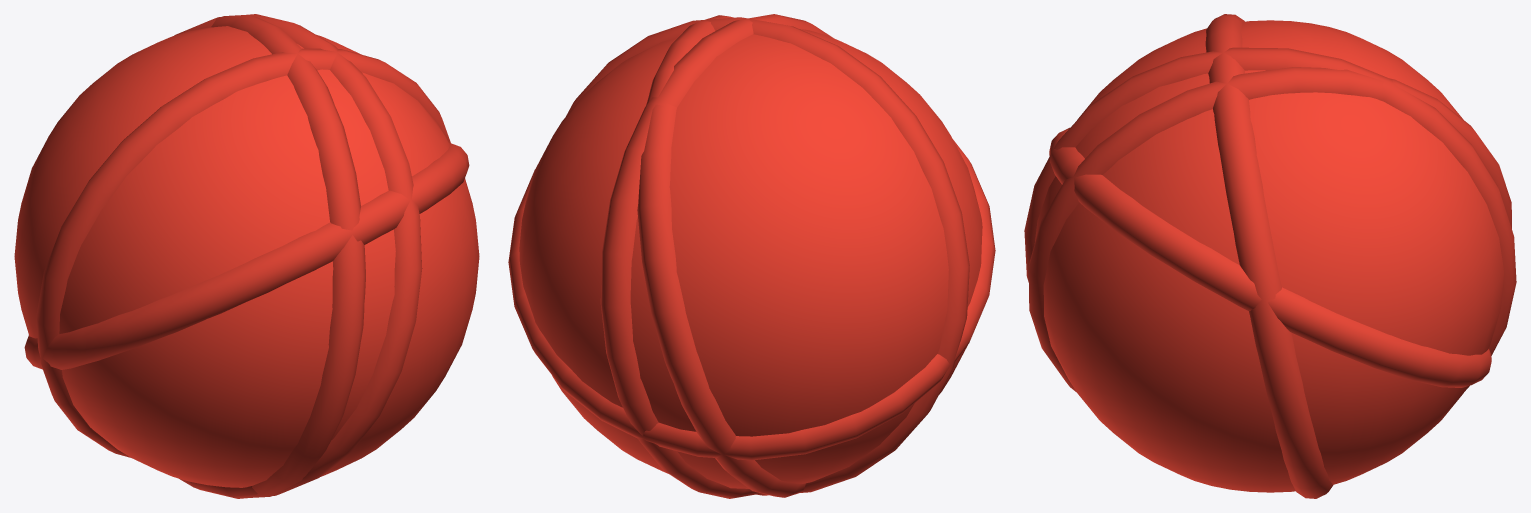
The model's file is decorado_ovillo_suelto.glb.
The picture shows the model from 3 angles, left to right: view 1: azimuth 30°, elevation 25°; view 2: azimuth 150°, elevation 25°; view 3: azimuth 270°, elevation 25°; orthographic projection.
Parts seen in each view (by area): view 1: Bola, Vuelta (×4); view 2: Bola, Vuelta (×4); view 3: Bola, Vuelta (×4).
Part boxes in pixels (x1,y1,x2,y2): Bola: [14, 26, 479, 487]; Vuelta (×4): [24, 14, 469, 498]; Bola: [519, 29, 982, 488]; Vuelta (×4): [508, 14, 995, 498]; Bola: [1034, 20, 1503, 492]; Vuelta (×4): [1024, 14, 1516, 498].
Size of the model in its own units: 0.9379 by 0.9262 by 0.9343.
